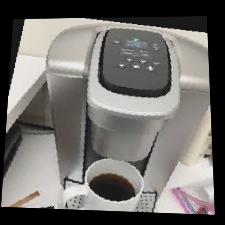10oz: (132, 65, 139, 72)
12oz: (147, 65, 154, 72)
4oz: (126, 56, 134, 63)
6oz: (139, 58, 147, 65)
8oz: (117, 62, 125, 69)
